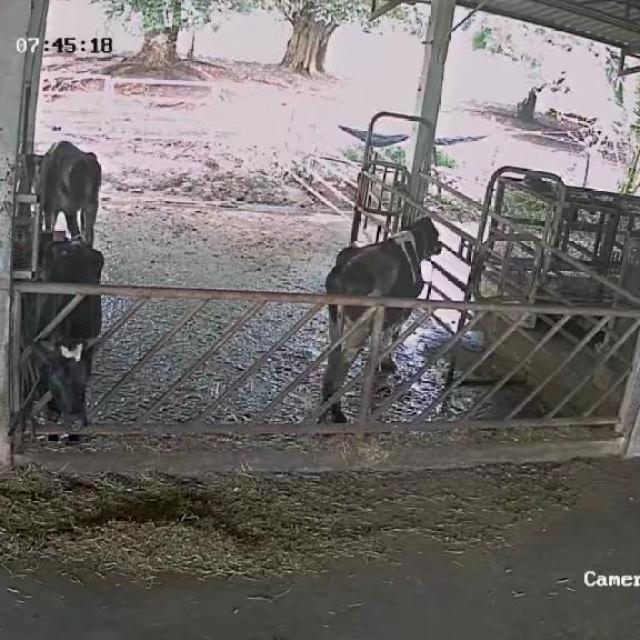feeding: (19, 232, 117, 442)
standing: (313, 212, 444, 439), (28, 136, 103, 242)
